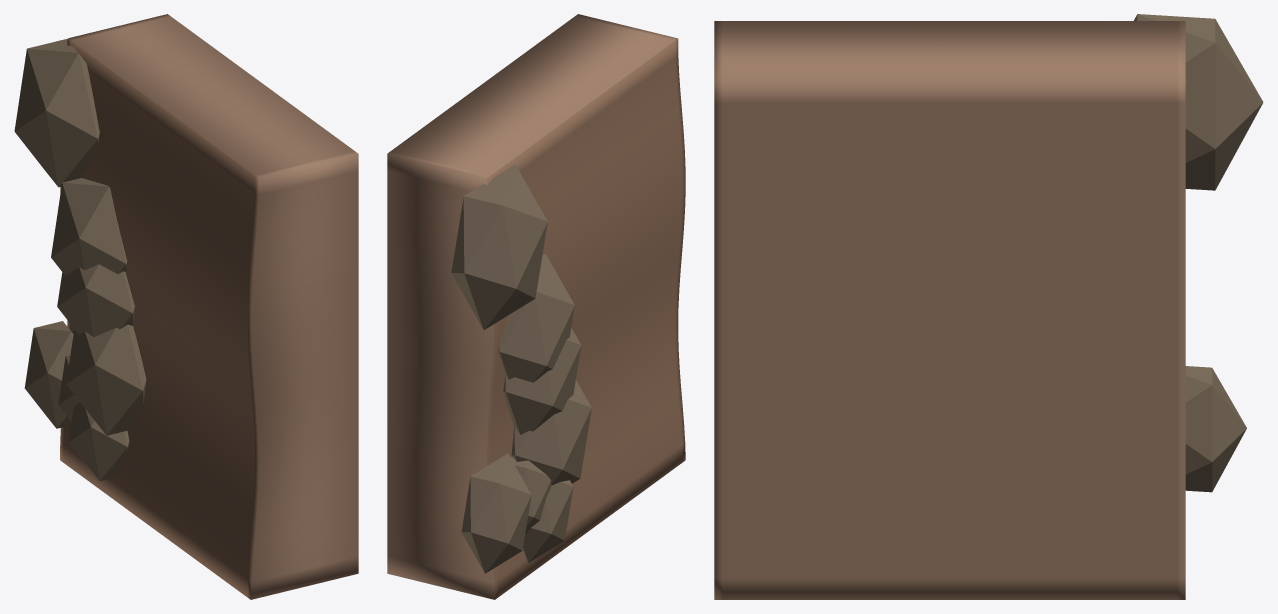
The model's file is POT1.glb.
3 renders of one model, left to right at view 1: azimuth 30°, elevation 25°; view 2: azimuth 150°, elevation 25°; view 3: azimuth 270°, elevation 25°, orthographic. The views are drawn at different scales.
Parts seen in each view (by area): view 1: POT1_panel, POT1_crust5, POT1_crust2, POT1_crust3, POT1_crust0, POT1_crust1, POT1_crust6, POT1_crust4; view 2: POT1_panel, POT1_crust5, POT1_crust1, POT1_crust3, POT1_crust2, POT1_crust0, POT1_crust6, POT1_crust4; view 3: POT1_panel, POT1_crust5, POT1_crust1.
Boxes of the visible parts, x1,y1,x2,y2 form: POT1_panel: (60, 14, 358, 599); POT1_crust5: (14, 39, 99, 187); POT1_crust2: (66, 324, 146, 435); POT1_crust3: (51, 178, 127, 275); POT1_crust0: (57, 264, 134, 336); POT1_crust1: (24, 321, 73, 428); POT1_crust6: (69, 401, 129, 480); POT1_crust4: (58, 354, 79, 421); POT1_panel: (387, 14, 685, 599); POT1_crust5: (451, 164, 547, 329); POT1_crust1: (461, 453, 531, 573); POT1_crust3: (498, 253, 574, 382); POT1_crust2: (511, 380, 591, 485); POT1_crust0: (503, 328, 581, 434); POT1_crust6: (523, 480, 573, 562); POT1_crust4: (511, 457, 551, 534); POT1_panel: (714, 21, 1185, 599); POT1_crust5: (1134, 14, 1263, 190); POT1_crust1: (1185, 366, 1246, 492).
Size of the model in its own units: 0.0299 by 0.0853 by 0.0816.
